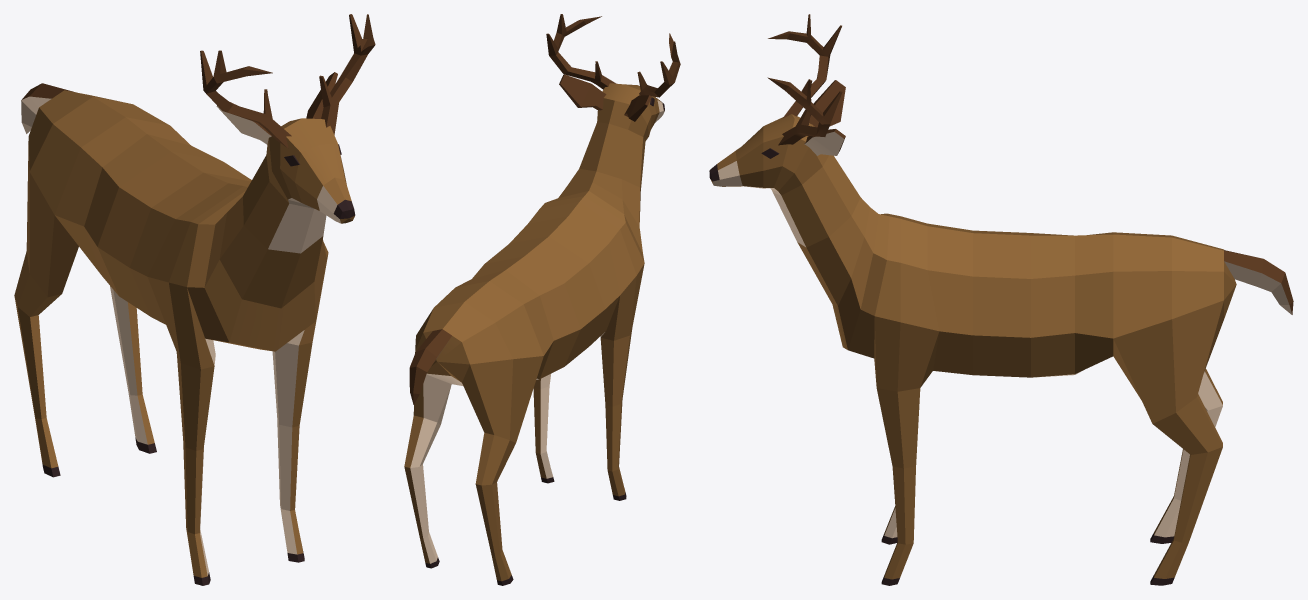
The model's file is deer.glb.
The picture shows the model from 3 angles, left to right: view 1: azimuth 30°, elevation 25°; view 2: azimuth 150°, elevation 25°; view 3: azimuth 270°, elevation 25°; orthographic projection. The views are drawn at different scales.
Visible parts, largest first — view 1: Geo_Deer; view 2: Geo_Deer; view 3: Geo_Deer.
Boxes of the visible parts, <box> form: Geo_Deer: <box>14,14,375,585</box>; Geo_Deer: <box>404,14,680,585</box>; Geo_Deer: <box>709,14,1293,585</box>.
Size of the model in its own units: 40.26 by 135 by 139.
1 material, 1 textured.
